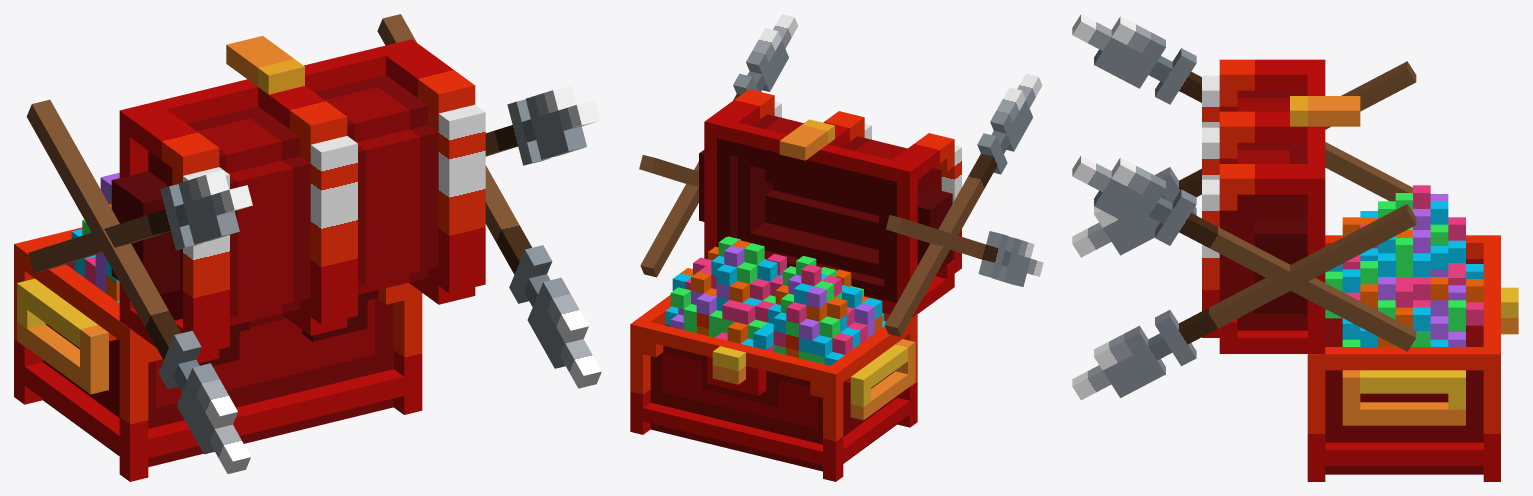
The model's file is model_open.gltf.
3 renders of one model, left to right at view 1: azimuth 30°, elevation 25°; view 2: azimuth 150°, elevation 25°; view 3: azimuth 270°, elevation 25°, orthographic. The views are drawn at different scales.
Visible parts, largest first — view 1: Top-Local, Bottom-Local, SpearR2$$(1)-Local, SpearR2-Local, SpearR1$$(1)-Local, SpearR1-Local; view 2: Bottom-Local, Top-Local, SpearR1$$(1)-Local, SpearR1-Local, SpearR2$$(1)-Local, SpearR2-Local; view 3: Bottom-Local, Top-Local, SpearR2-Local, SpearR1-Local, SpearR1$$(1)-Local, SpearR2$$(1)-Local.
Part boxes in pixels (box(x1,y1,x2,y2)): Top-Local: box(111, 36, 485, 363); Bottom-Local: box(14, 172, 422, 481); SpearR2$$(1)-Local: box(26, 99, 250, 473); SpearR2-Local: box(377, 14, 601, 388); SpearR1$$(1)-Local: box(28, 170, 252, 272); SpearR1-Local: box(485, 86, 599, 165); Bottom-Local: box(630, 236, 917, 481); Top-Local: box(699, 89, 961, 318); SpearR1$$(1)-Local: box(884, 73, 1042, 336); SpearR1-Local: box(640, 14, 797, 277); SpearR2$$(1)-Local: box(886, 215, 1043, 286); SpearR2-Local: box(639, 155, 698, 186); Bottom-Local: box(1307, 185, 1518, 481); Top-Local: box(1202, 59, 1360, 353); SpearR2-Local: box(1072, 204, 1416, 400); SpearR1-Local: box(1072, 155, 1416, 351); SpearR1$$(1)-Local: box(1072, 14, 1412, 201); SpearR2$$(1)-Local: box(1072, 61, 1416, 257).
Bounding box in the file's own units: 20.19 × 20.96 × 25.38.
Materials: 7 (7 with a texture image).
